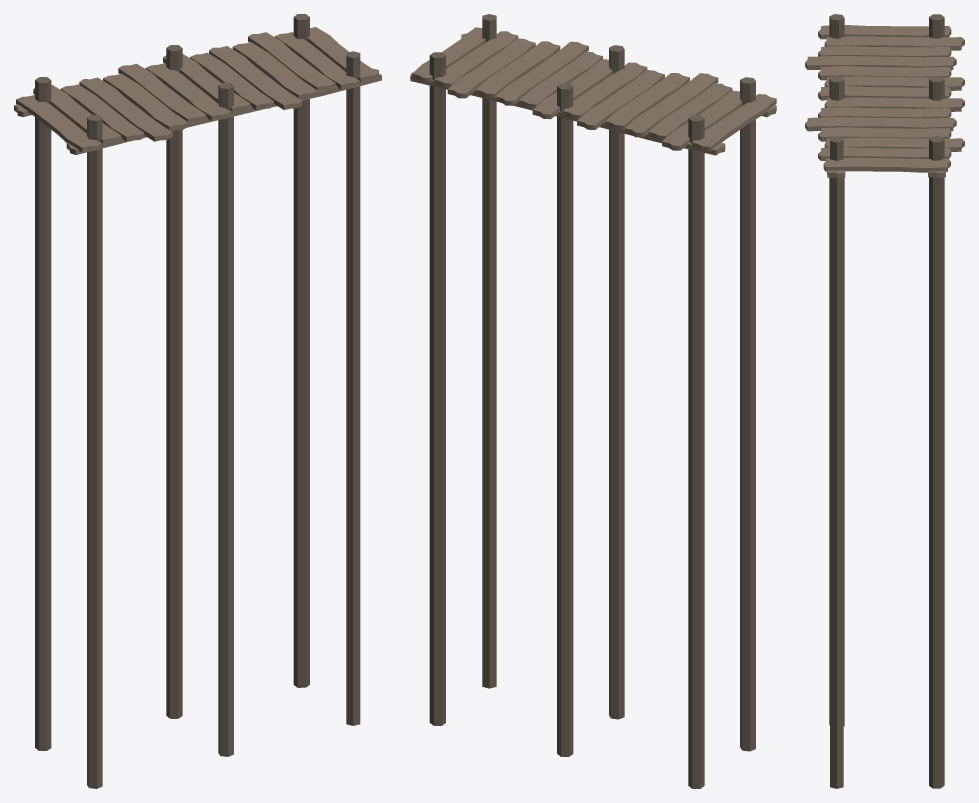
File: dock.fbx
3 renders of one model, left to right at view 1: azimuth 30°, elevation 25°; view 2: azimuth 150°, elevation 25°; view 3: azimuth 270°, elevation 25°, orthographic. The views are drawn at different scales.
Visible parts, largest first — view 1: dock; view 2: dock; view 3: dock.
Boxes of the visible parts, <box> form: dock: <box>14,14,381,788</box>; dock: <box>410,14,776,788</box>; dock: <box>805,14,964,788</box>.
Bounding box in the file's own units: 7.43 × 15.18 × 3.4.
